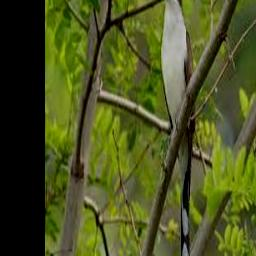Cuckoo: (160, 0, 194, 256)
